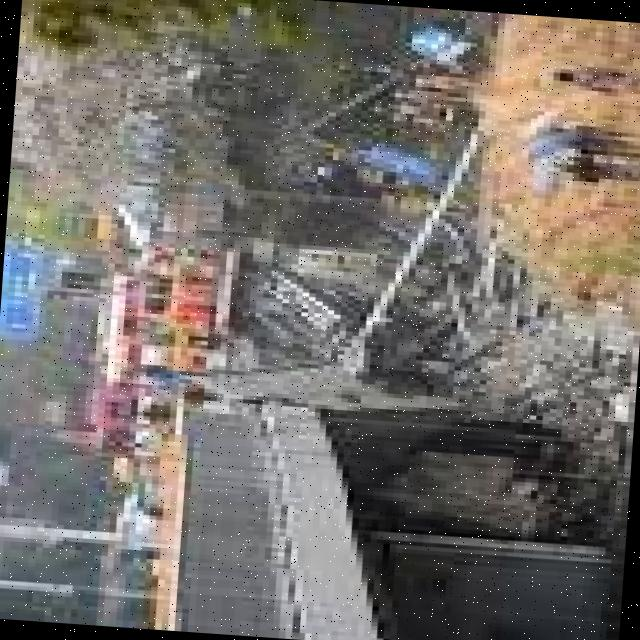bridge collapse: (0, 132, 537, 638)
